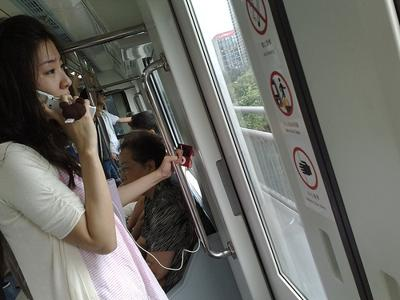person: (1, 15, 188, 300)
